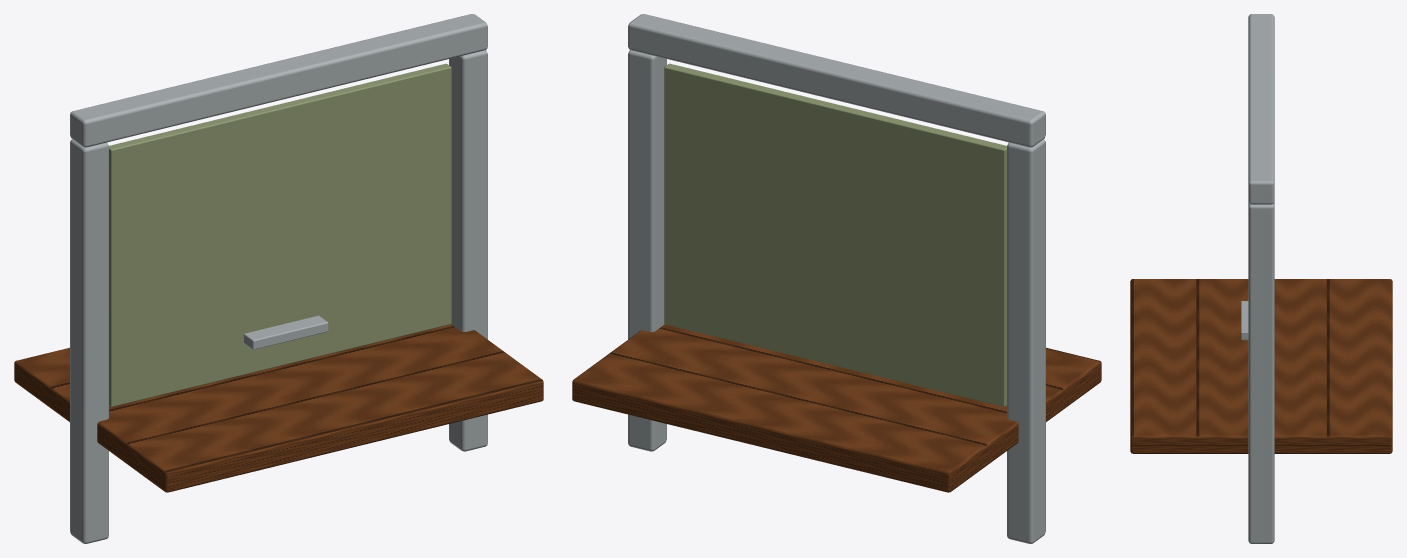
The picture shows the model from 3 angles, left to right: view 1: azimuth 30°, elevation 25°; view 2: azimuth 150°, elevation 25°; view 3: azimuth 270°, elevation 25°; orthographic projection. The views are drawn at different scales.
Parts seen in each view (by area): view 1: shutter/canvas, two-sided-trade-hatch, shutter/metal; view 2: shutter/canvas, two-sided-trade-hatch; view 3: two-sided-trade-hatch.
Part boxes in pixels (<box>): shutter/canvas: <box>109,63,451,406</box>; two-sided-trade-hatch: <box>14,14,543,543</box>; shutter/metal: <box>244,315,328,349</box>; shutter/canvas: <box>664,63,1006,406</box>; two-sided-trade-hatch: <box>572,14,1101,543</box>; two-sided-trade-hatch: <box>1130,14,1392,543</box>.
Bounding box in the file's own units: 1.07 × 1.07 × 0.7.
3 materials, 1 textured.
